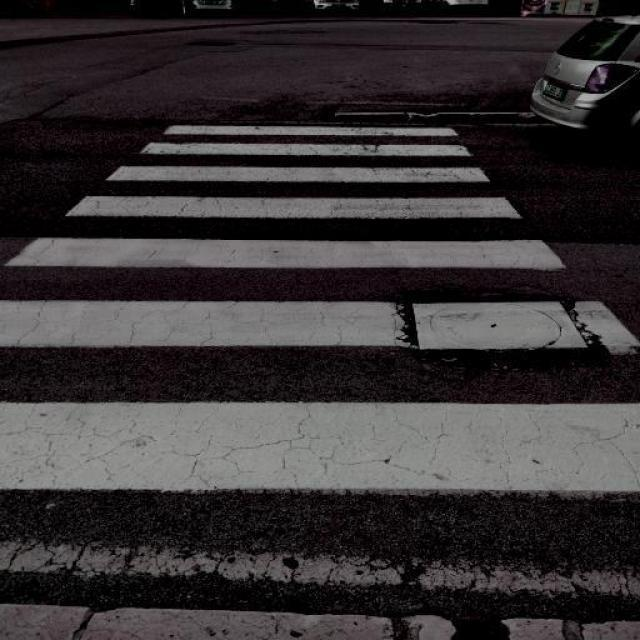crosswalk: (2, 121, 640, 494)
